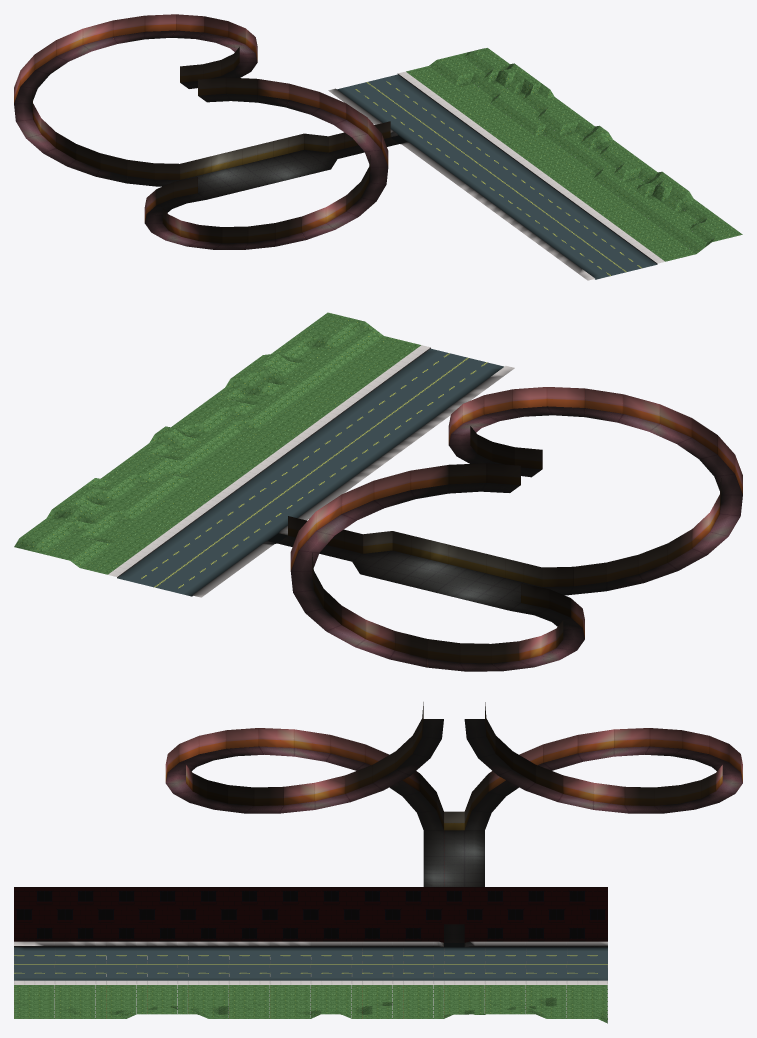
File: underground-5.gltf
3 renders of one model, top to bottom at view 1: azimuth 30°, elevation 25°; view 2: azimuth 150°, elevation 25°; view 3: azimuth 270°, elevation 25°, orthographic. The views are drawn at different scales.
Parts seen in each view (by area): view 1: default; view 2: default; view 3: default.
Boxes of the visible parts, x1,y1,x2,y2 form: default: [14, 14, 742, 280]; default: [14, 312, 742, 671]; default: [14, 702, 742, 1023].
Size of the model in its own units: 234 by 56 by 285.
1 material, 1 textured.
